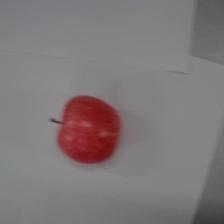red: (54, 93, 122, 164)
